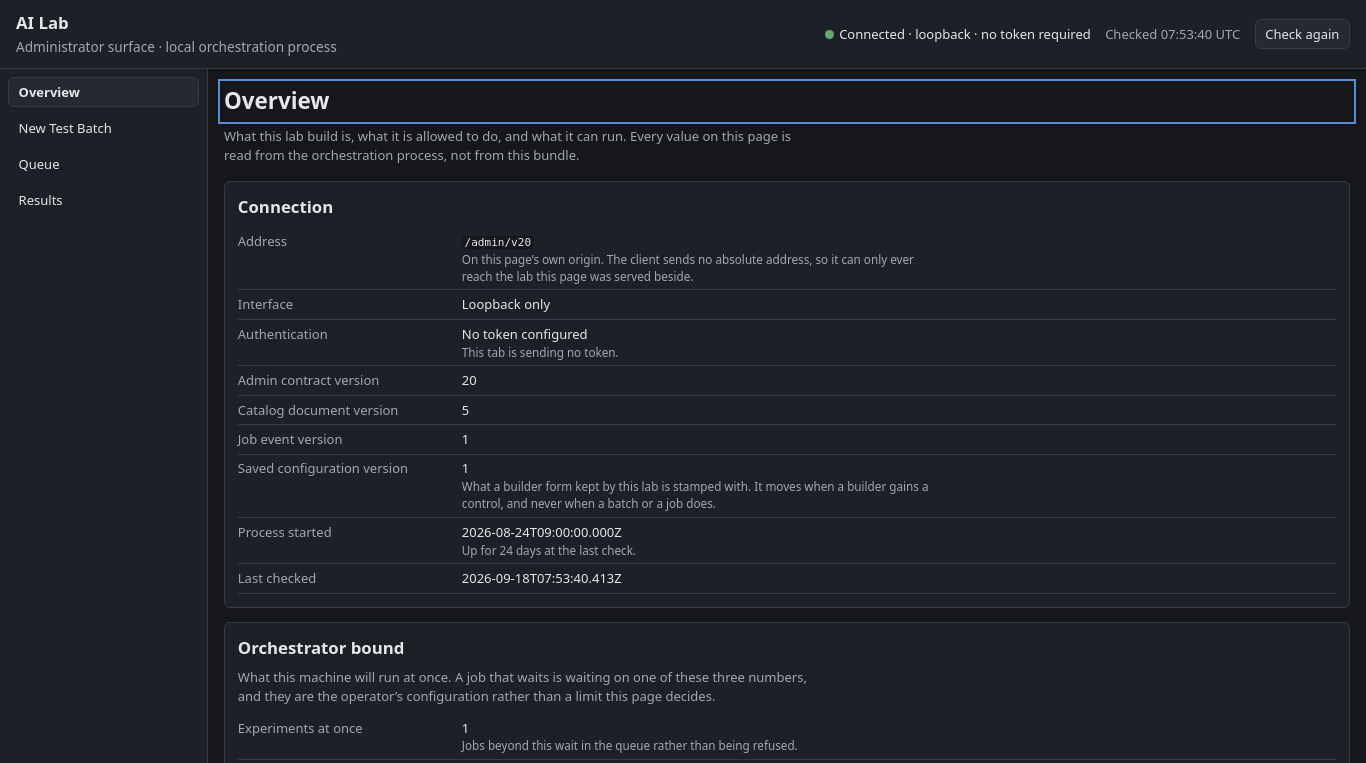
Test case: opening the Player Meta partition coverage tab › requires a rules version before sending a request
The width and height of the screenshot is (1366, 763).
Expected: the heading "Overview" is shown, 224,85 -> 330,116
Click the button "Results" at (104, 200), box 8,185 -> 199,216
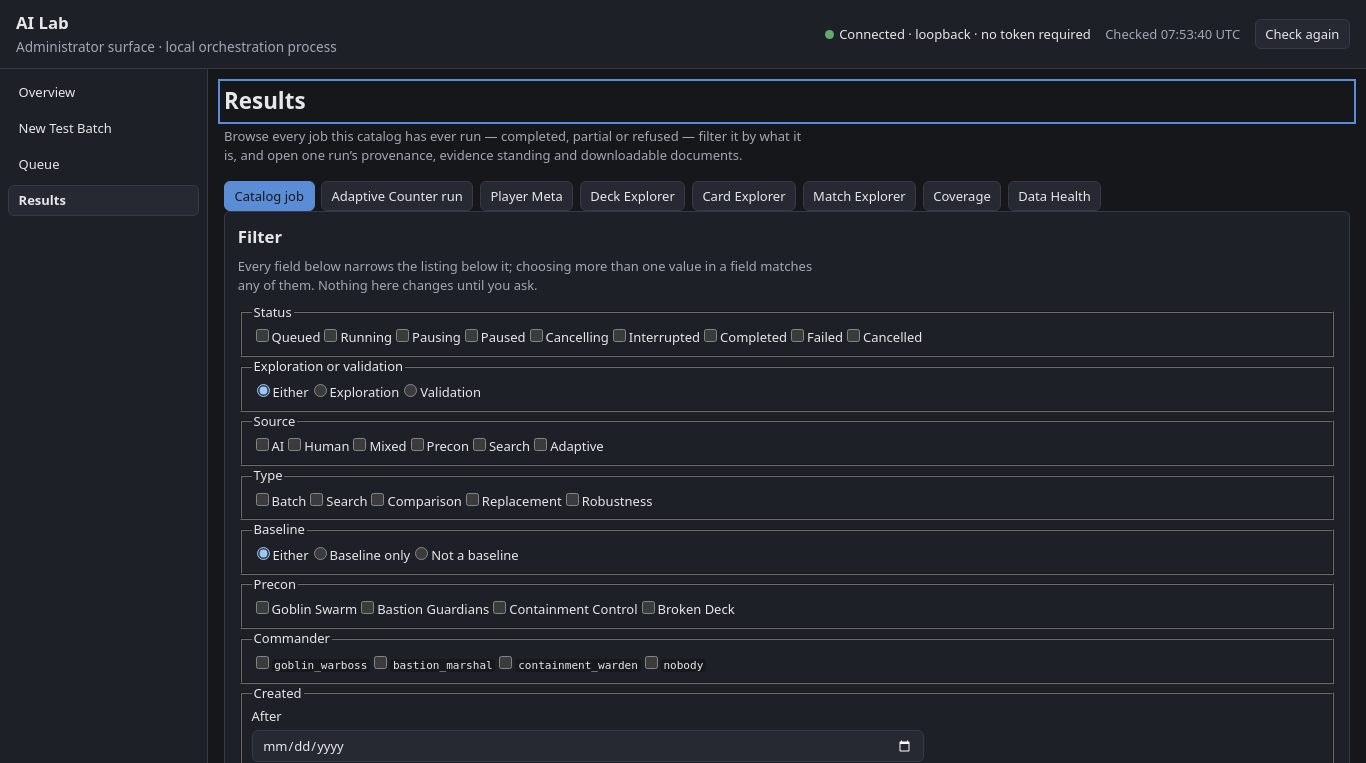
Expected: the heading "Results" is shown, 224,85 -> 306,116
Click the button "Coverage" at (962, 196), box 923,181 -> 1001,211
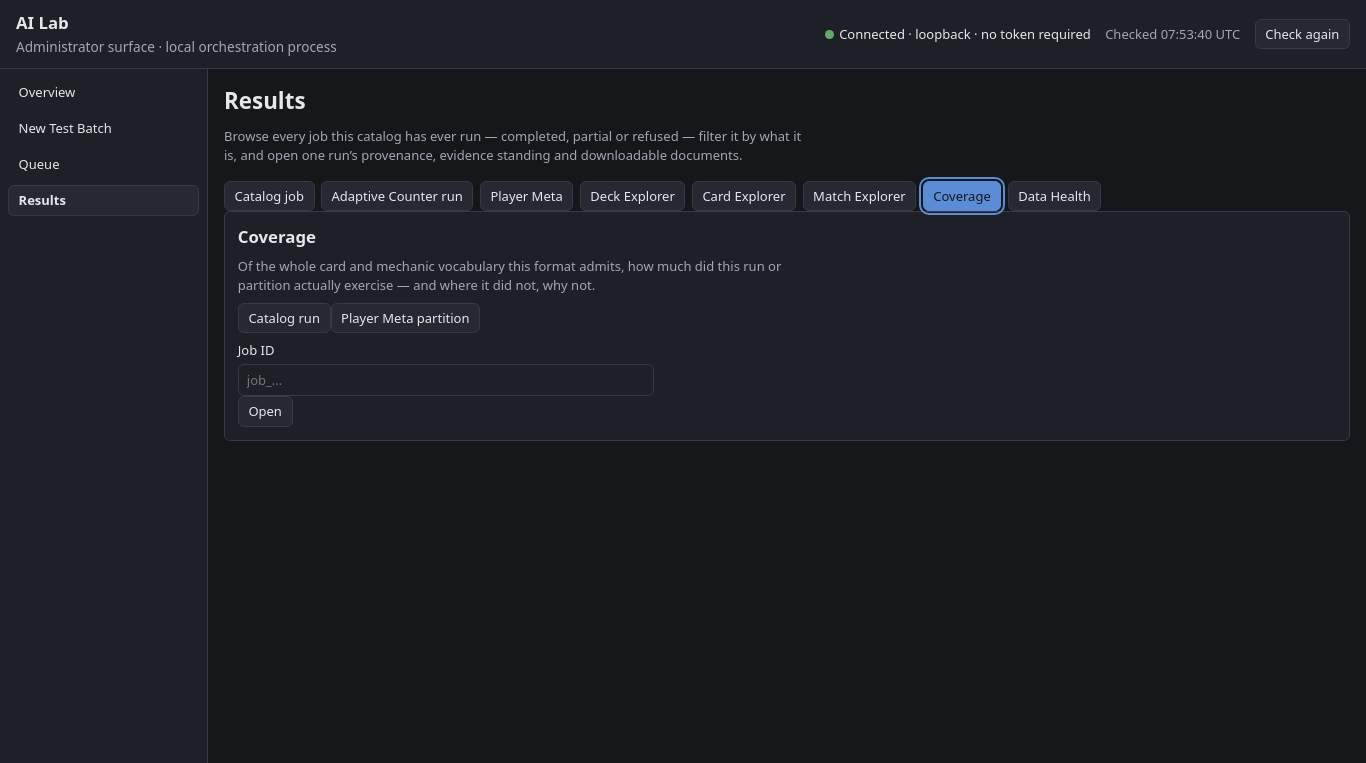
Click the tab "Player Meta partition" at (405, 318), box 330,303 -> 480,333
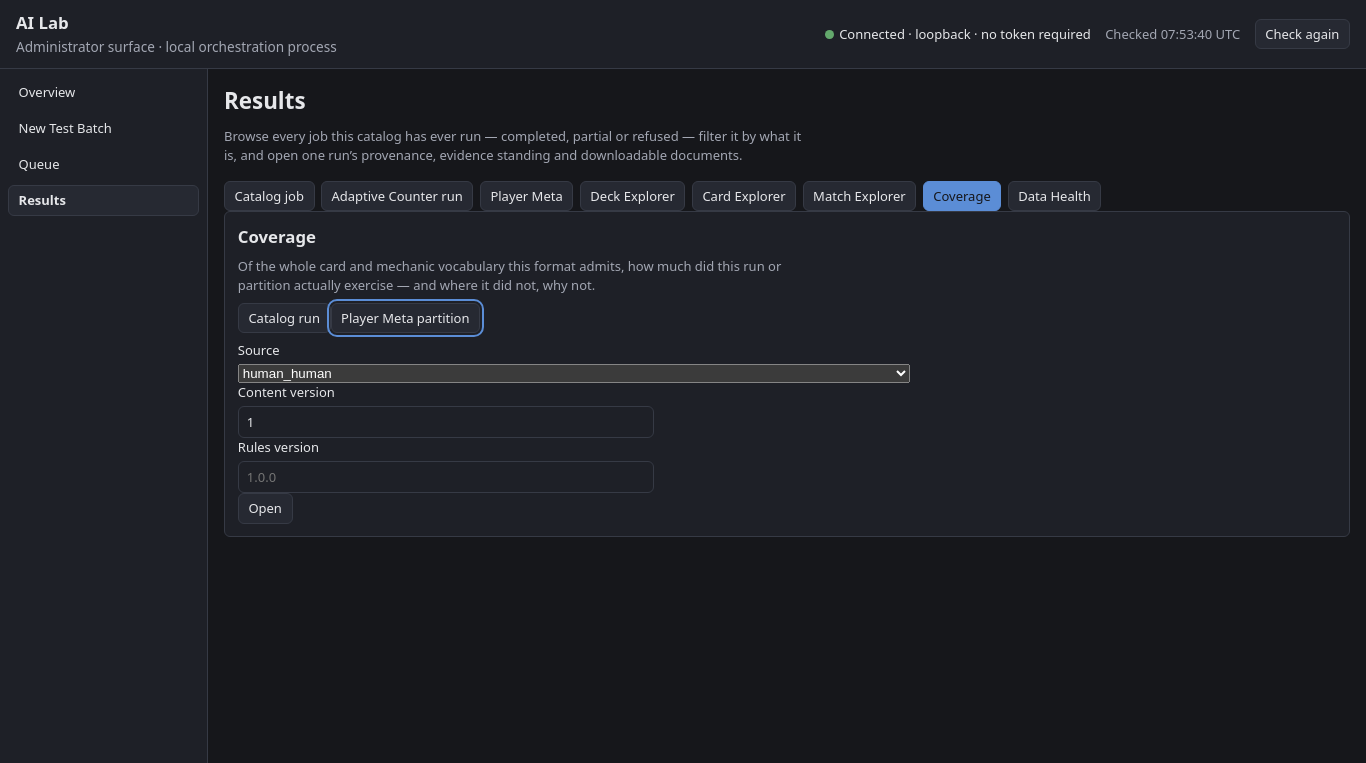
Clear the field labelled "Rules version" at (446, 477), box 238,461 -> 654,493
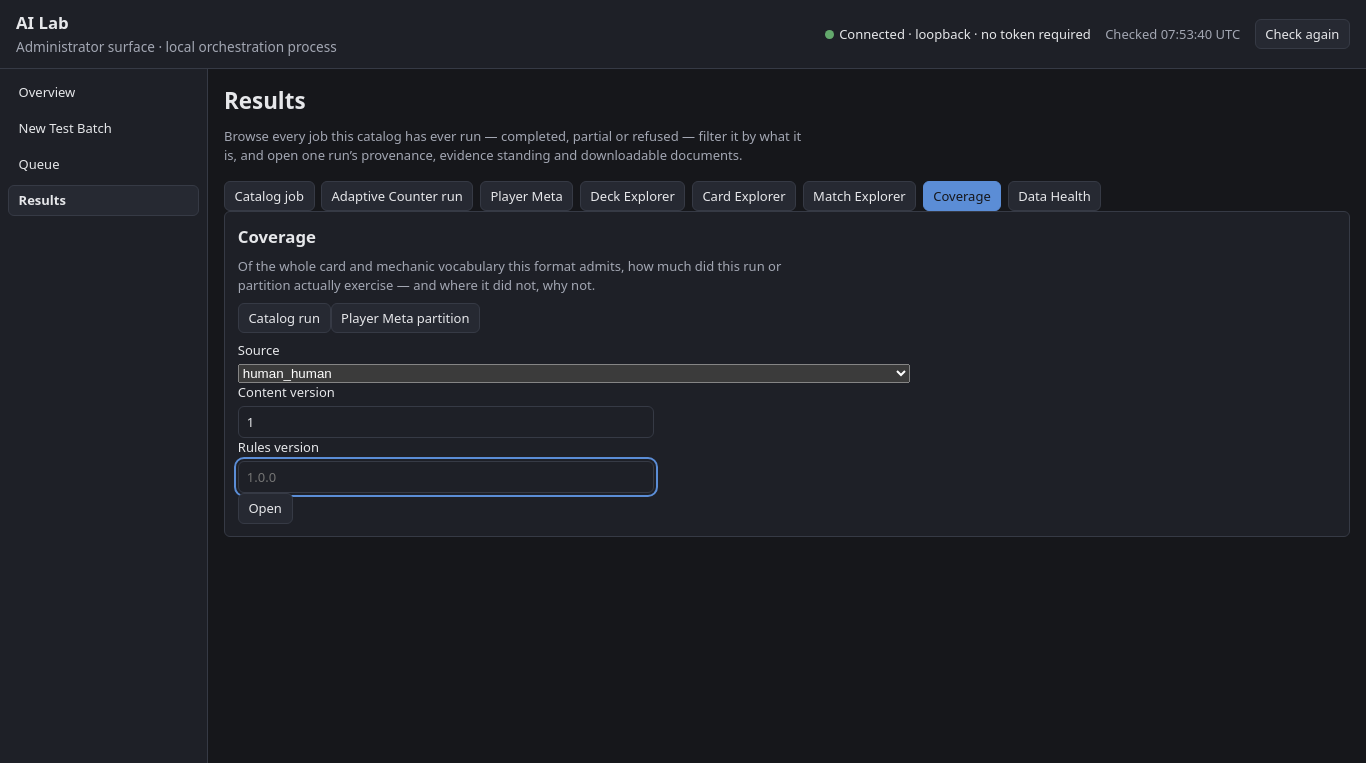
Click the button "Open" at (265, 508), box 238,493 -> 292,524
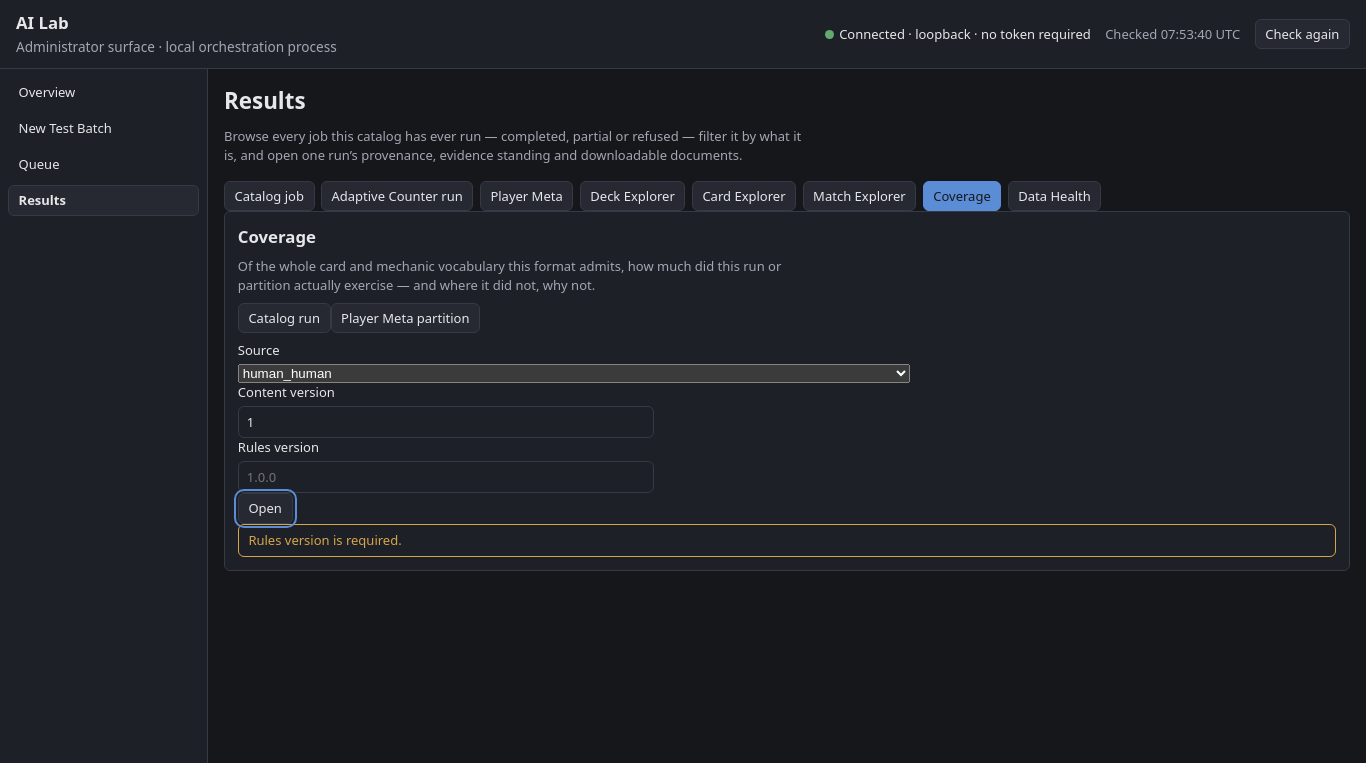
Expected: the message reads "Rules version is required.", 248,531 -> 402,549
